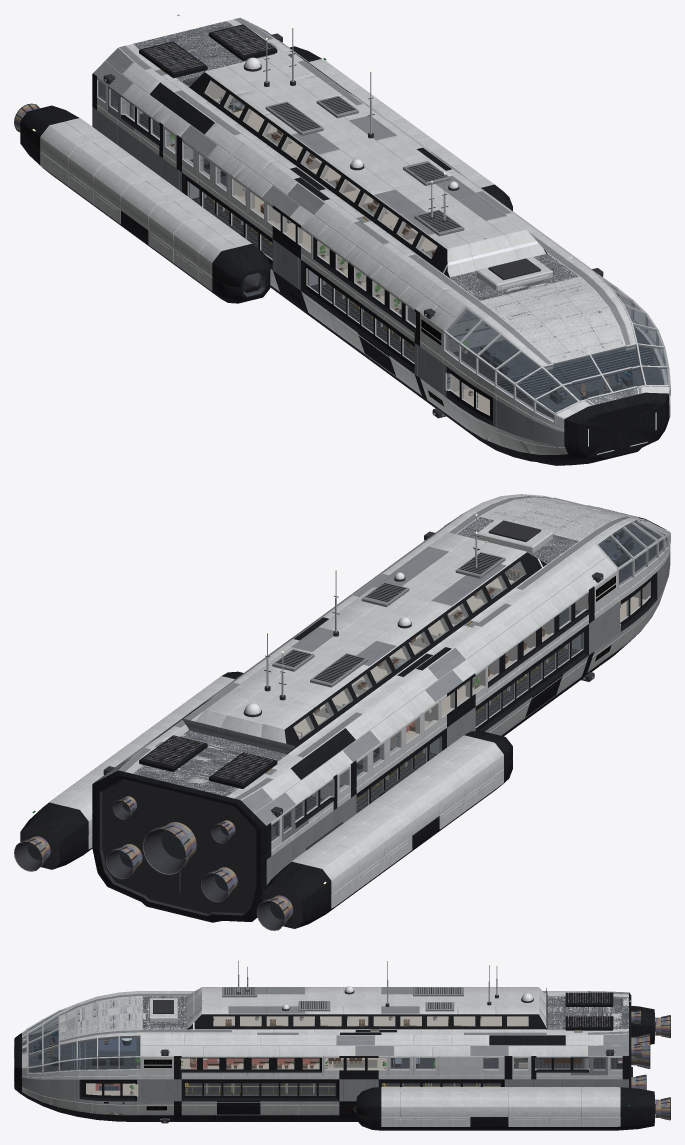
File: Vesper_Explorer.fbx
The picture shows the model from 3 angles, top to bottom: view 1: azimuth 30°, elevation 25°; view 2: azimuth 150°, elevation 25°; view 3: azimuth 270°, elevation 25°; orthographic projection. The views are drawn at different scales.
Parts seen in each view (by area): view 1: Hull, Engine_Pods, Cockpit_Glass, Windows_Glass, Exterior_Details, A-01_Komandnyy_Mostik, Window_Frames, S-01_Obzornyy_Salon, H-01_Proizvodstvennyy_Tsekh_1, A-02_Nosovoy_Kholl, H-02_Proizvodstvennyy_Tsekh_2; view 2: Hull, Engine_Pods, Windows_Glass, Exterior_Details, Engines_Main, S-01_Obzornyy_Salon, Cockpit_Glass, Window_Frames, A-01_Komandnyy_Mostik, H-01_Proizvodstvennyy_Tsekh_1, H-02_Proizvodstvennyy_Tsekh_2; view 3: Hull, Engine_Pods, Windows_Glass, Exterior_Details, Cockpit_Glass, A-01_Komandnyy_Mostik, S-01_Obzornyy_Salon, Window_Frames, H-01_Proizvodstvennyy_Tsekh_1, Engines_Main, A-13_Kayut_Kompaniya_I_Kambuz, B-01_Nosovoy_Salon (+6 smaller).
Boxes of the visible parts, x1=… form: Hull: x1=92, y1=17, x2=670, y2=465; Engine_Pods: x1=14, y1=46, x2=512, y2=303; Cockpit_Glass: x1=446, y1=283, x2=668, y2=420; Windows_Glass: x1=98, y1=81, x2=489, y2=414; Exterior_Details: x1=103, y1=24, x2=603, y2=418; A-01_Komandnyy_Mostik: x1=453, y1=331, x2=663, y2=418; Window_Frames: x1=443, y1=273, x2=670, y2=424; S-01_Obzornyy_Salon: x1=208, y1=83, x2=437, y2=257; H-01_Proizvodstvennyy_Tsekh_1: x1=311, y1=280, x2=414, y2=361; A-02_Nosovoy_Kholl: x1=448, y1=310, x2=504, y2=352; H-02_Proizvodstvennyy_Tsekh_2: x1=192, y1=190, x2=272, y2=258; Hull: x1=92, y1=494, x2=670, y2=922; Engine_Pods: x1=14, y1=671, x2=512, y2=930; Windows_Glass: x1=271, y1=562, x2=649, y2=840; Exterior_Details: x1=103, y1=514, x2=603, y2=817; Engines_Main: x1=105, y1=796, x2=237, y2=902; S-01_Obzornyy_Salon: x1=293, y1=564, x2=521, y2=738; Cockpit_Glass: x1=598, y1=521, x2=667, y2=585; Window_Frames: x1=444, y1=494, x2=670, y2=589; A-01_Komandnyy_Mostik: x1=599, y1=525, x2=664, y2=583; H-01_Proizvodstvennyy_Tsekh_1: x1=475, y1=634, x2=581, y2=725; H-02_Proizvodstvennyy_Tsekh_2: x1=356, y1=748, x2=436, y2=812; Hull: x1=14, y1=987, x2=631, y2=1121; Engine_Pods: x1=353, y1=1006, x2=670, y2=1130; Windows_Glass: x1=86, y1=1016, x2=622, y2=1095; Exterior_Details: x1=148, y1=959, x2=615, y2=1123; Cockpit_Glass: x1=28, y1=1010, x2=139, y2=1072; A-01_Komandnyy_Mostik: x1=28, y1=1030, x2=140, y2=1072; S-01_Obzornyy_Salon: x1=213, y1=1016, x2=528, y2=1026; Window_Frames: x1=26, y1=990, x2=141, y2=1074; H-01_Proizvodstvennyy_Tsekh_1: x1=185, y1=1083, x2=335, y2=1094; Engines_Main: x1=631, y1=1010, x2=650, y2=1089; A-13_Kayut_Kompaniya_I_Kambuz: x1=325, y1=1058, x2=386, y2=1068; B-01_Nosovoy_Salon: x1=86, y1=1083, x2=138, y2=1094.
Size of the model in its own units: 36.82 by 26.84 by 103.
Materials: 68 (21 with a texture image).
